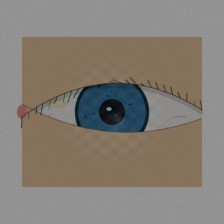pinguecula_lesion: (35, 85, 79, 121)
